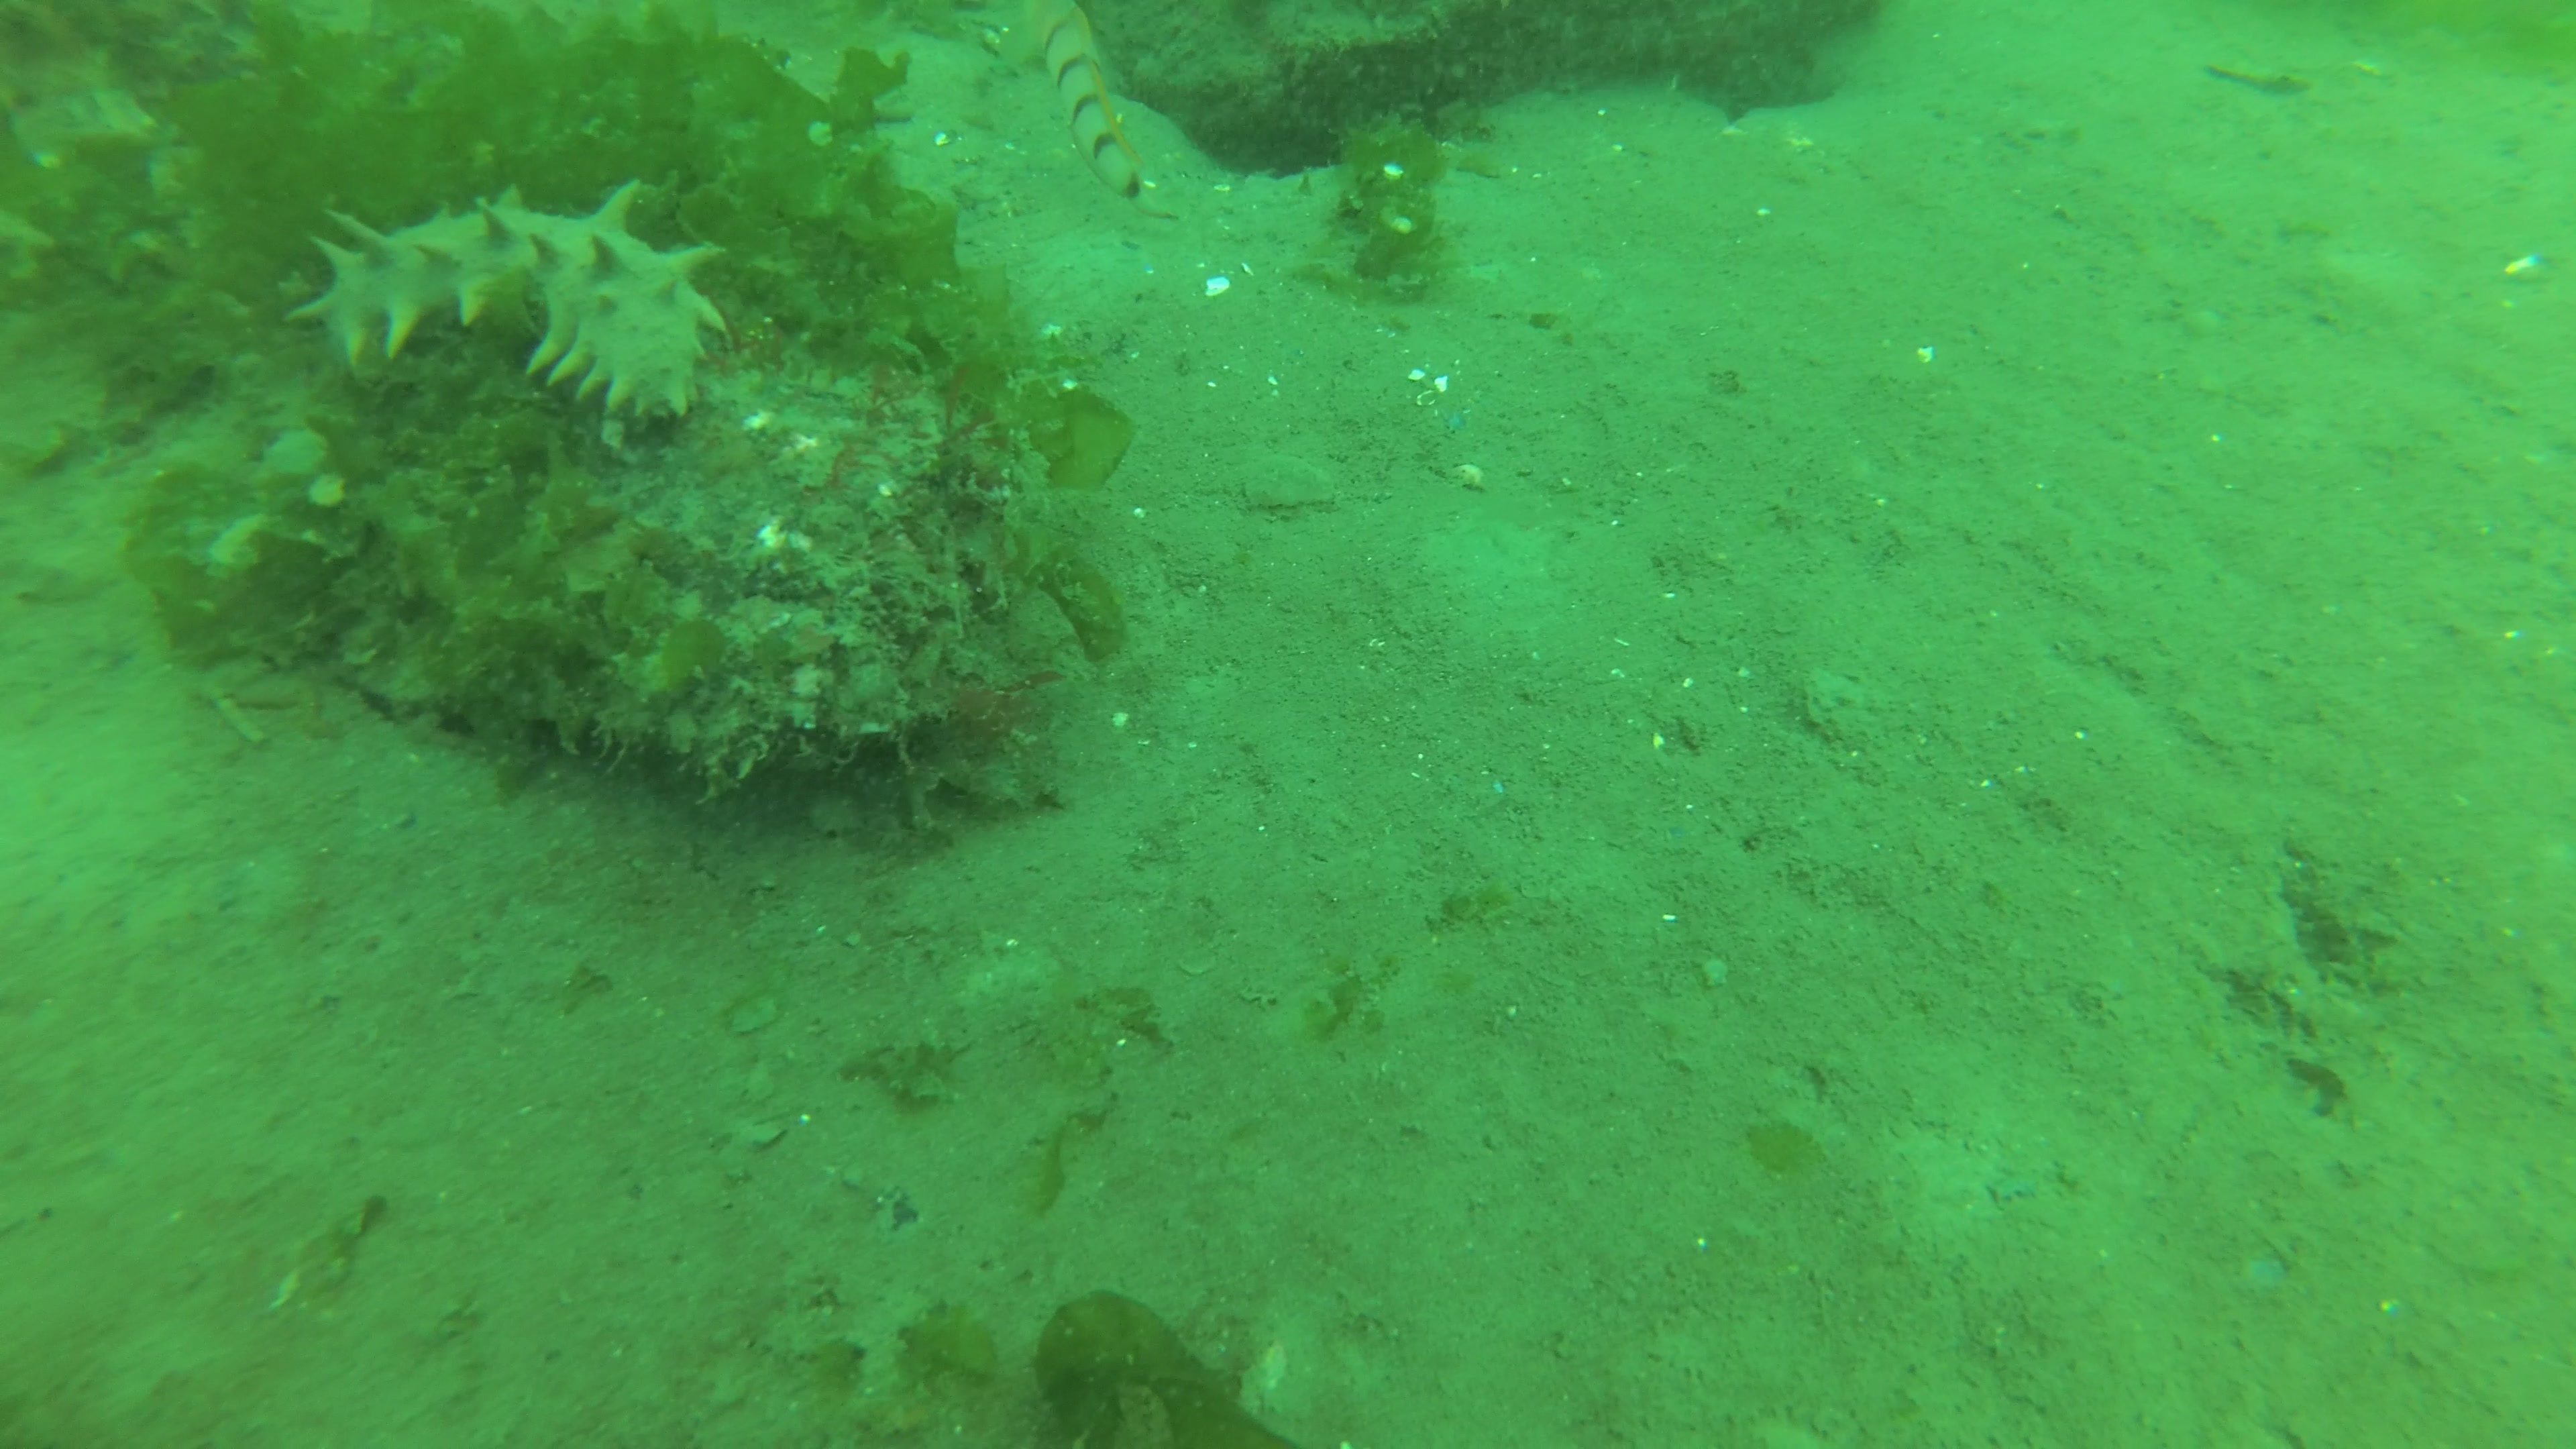holothurian: (280, 179, 729, 425)
scallop: (2212, 58, 2309, 97)
